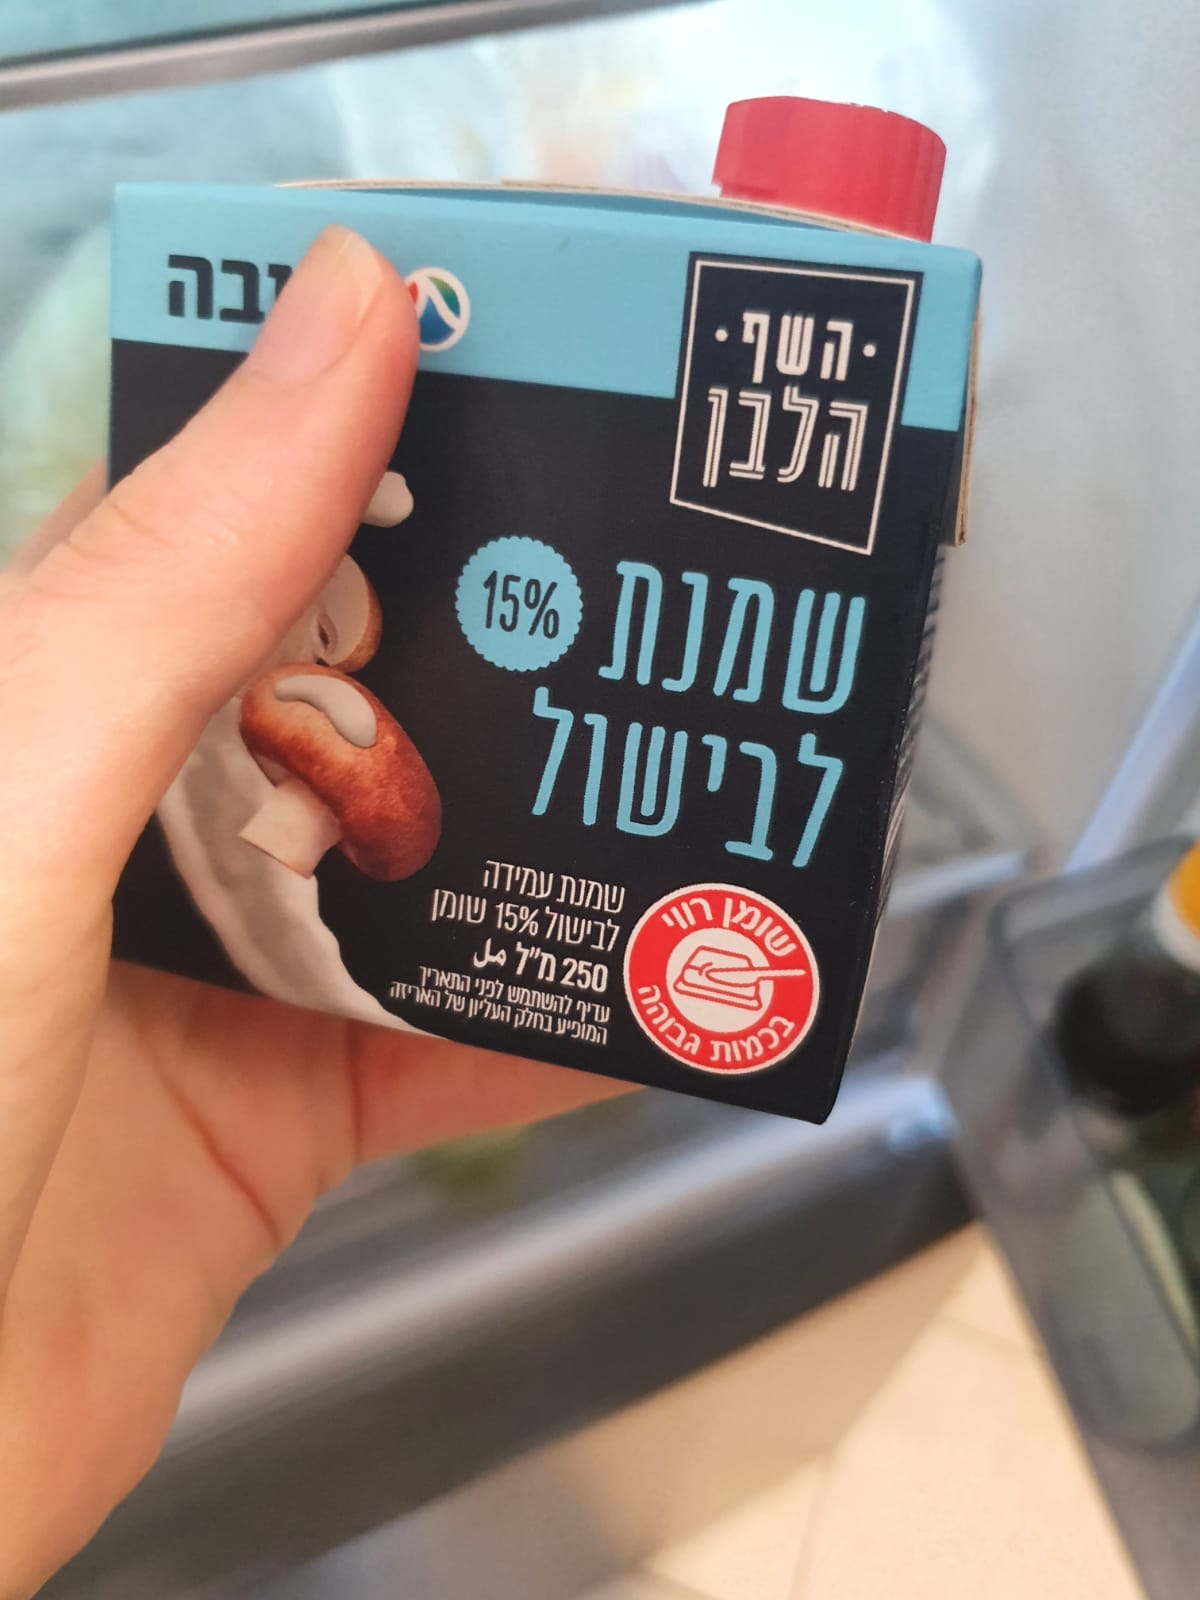fat: (621, 883, 821, 1083)
